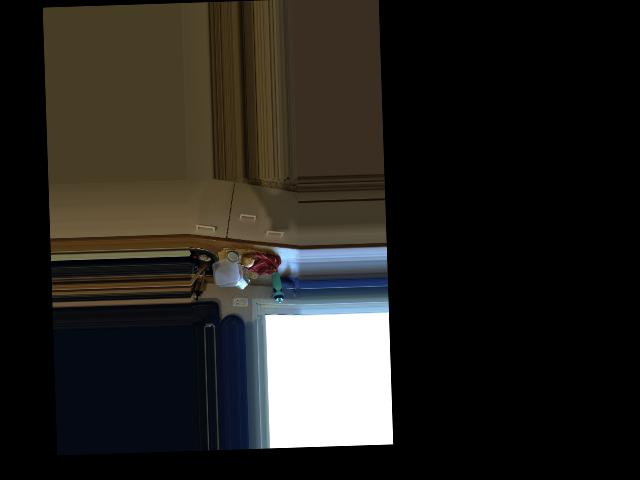onion: (242, 250, 258, 268)
